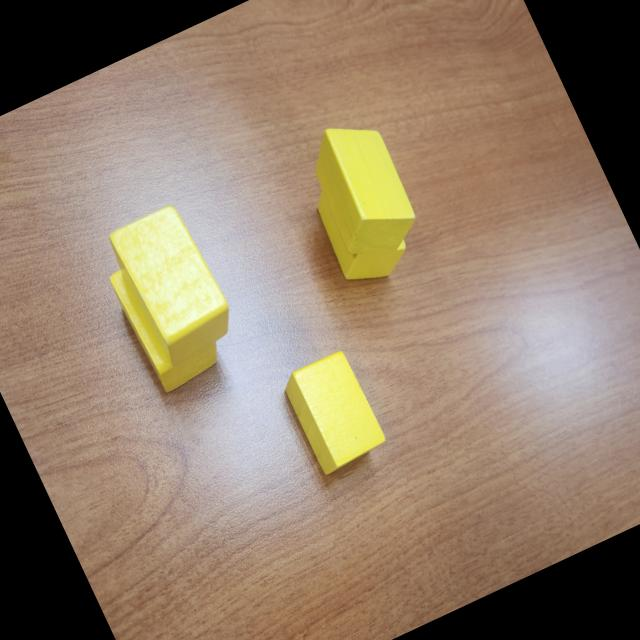yellow: (102, 200, 242, 372), (296, 109, 428, 269), (106, 245, 230, 398), (278, 348, 390, 477), (306, 167, 416, 295)
